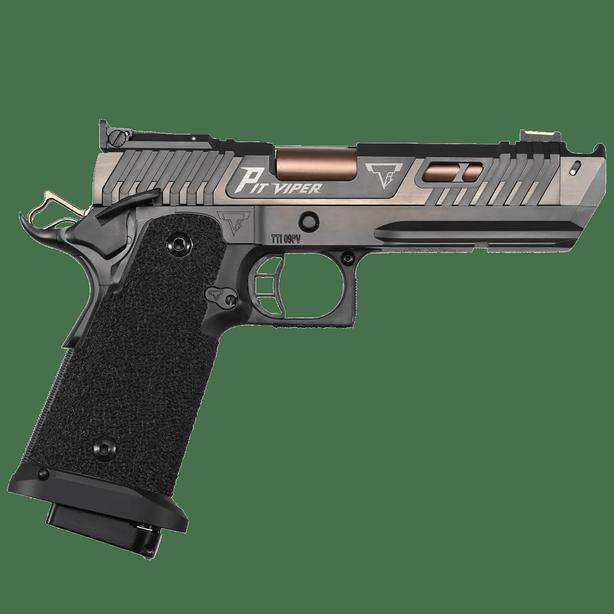Firearm: (15, 94, 614, 569)
